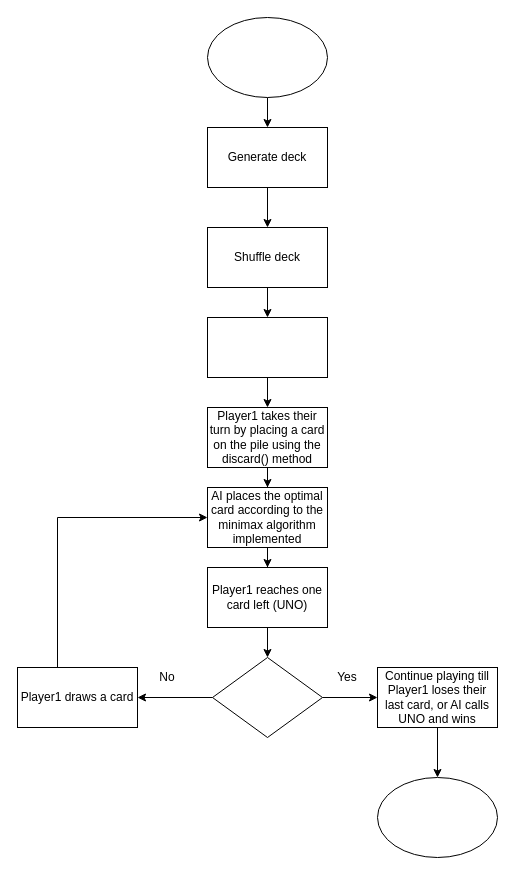
Image size: 515x875. Some labels were removed from this diagram. The centre of each missing label's shape, as x and y in pixels:
"Deal Cards to each player" belongs at (x=267, y=347).
"Does player1 call uno?" belongs at (x=267, y=697).
"End Game" belongs at (x=437, y=817).
"Start Game (Singleplayer)" belongs at (x=267, y=57).
